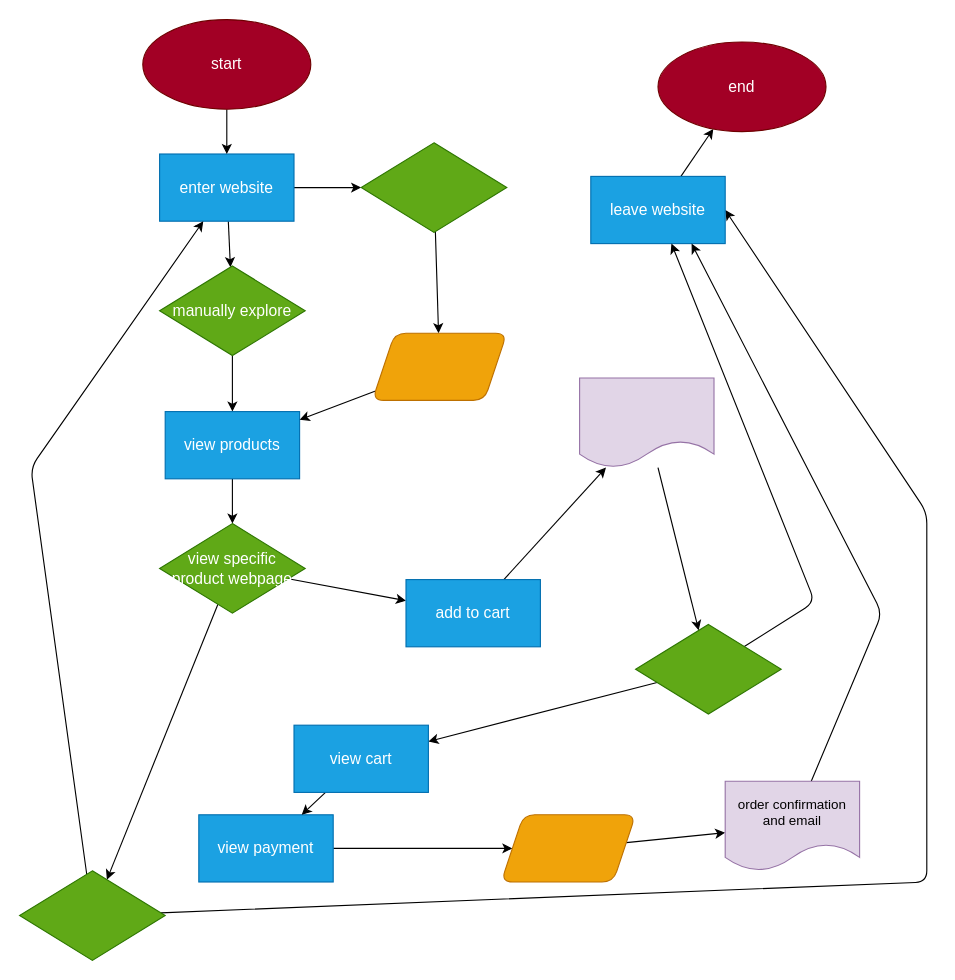
Image size: 955x980. Some labels were removed from this diagram. Here are the shapes that lost their labels. From the top down, the centre of each, then its label:
(433,187): use search
(439,366): input search query
(646,422): add to cart confirmation
(707,668): checkout
(568,848): provide payment info
(91,915): continue shopping
